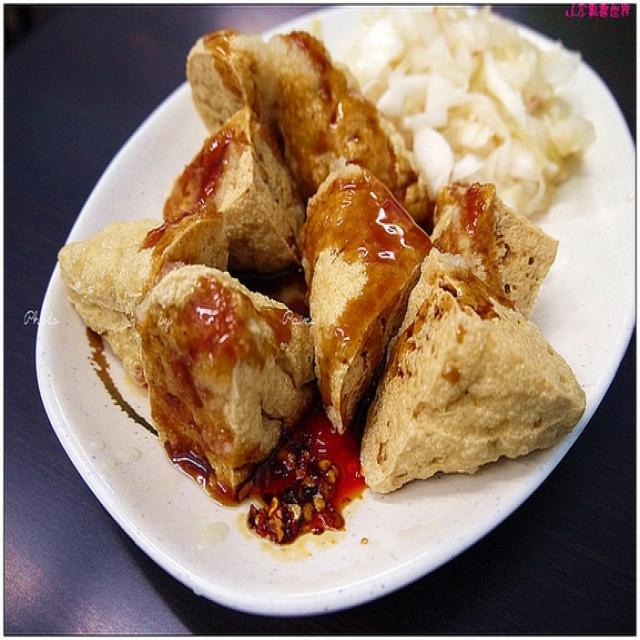豆腐料理: (21, 13, 626, 604)
